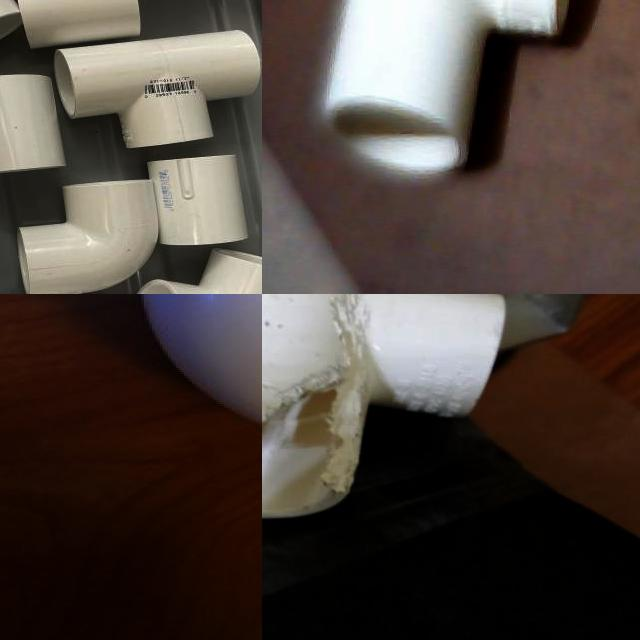Defective: (281, 370, 343, 450), (336, 294, 377, 354)
L Joint: (16, 180, 158, 294), (143, 252, 262, 294)
T Joint: (262, 294, 507, 521), (318, 0, 570, 179), (54, 33, 261, 152)
